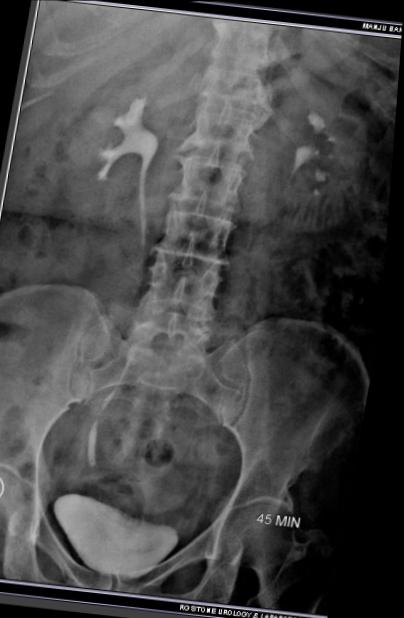bladder: (32, 487, 198, 601)
left kidney: (252, 50, 395, 248)
right kidney: (45, 59, 180, 238)
vertebrae: (183, 101, 262, 161)
